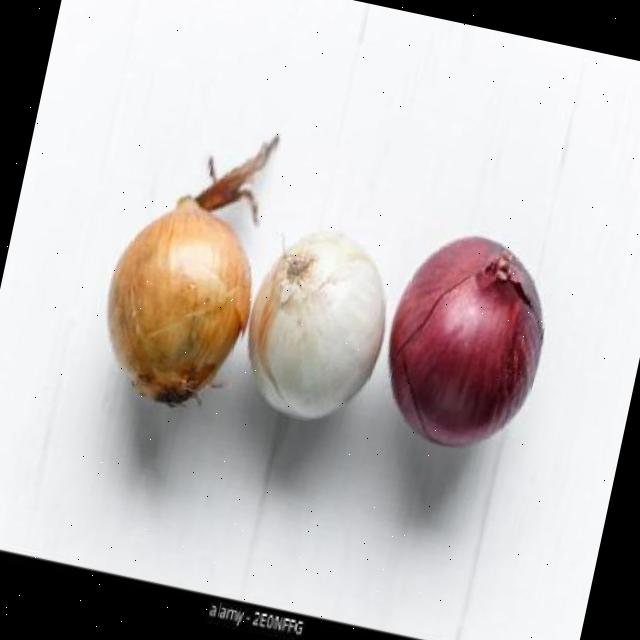Onion: (390, 236, 544, 447), (107, 196, 250, 404), (248, 232, 385, 420)
